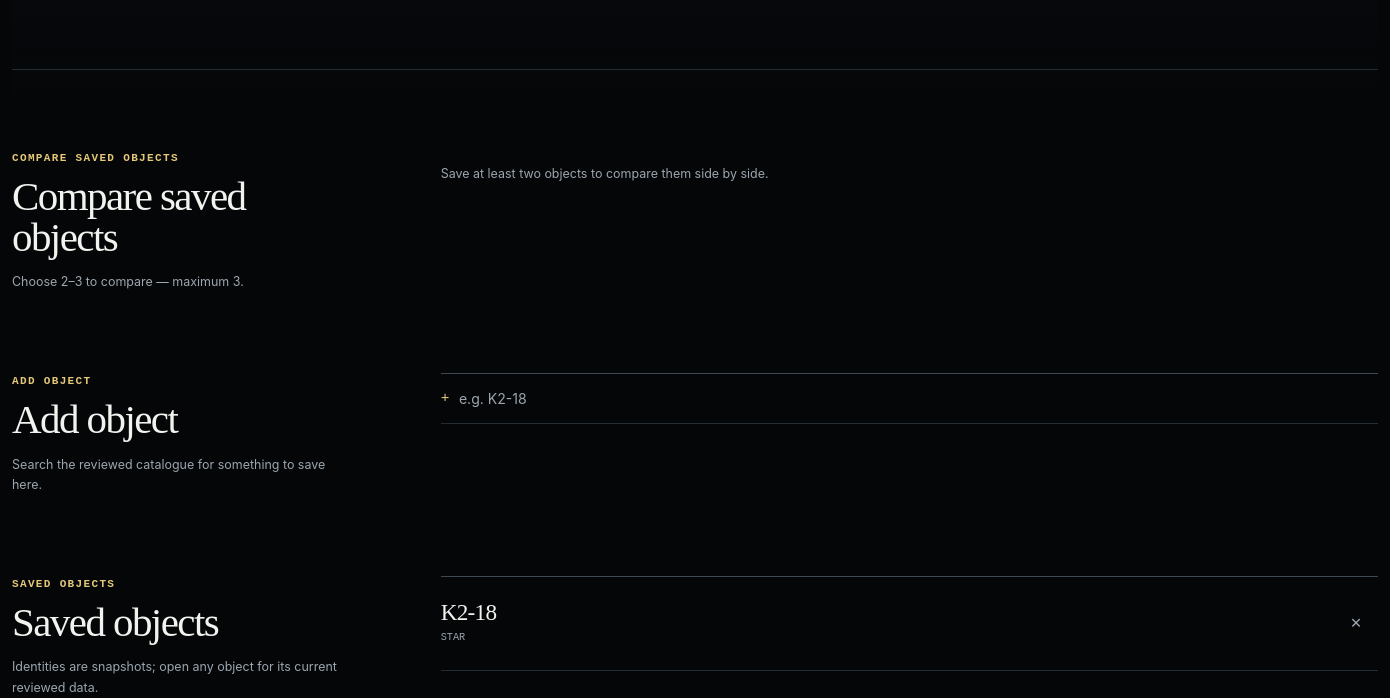
CollectionDetailView › removes an object and persists the removal
This screenshot has width=1390, height=698.
(page scrolled)
Click the button named "Remove K2-18 from the collection". click: click(1356, 623)
box: [1334,601,1378,645]
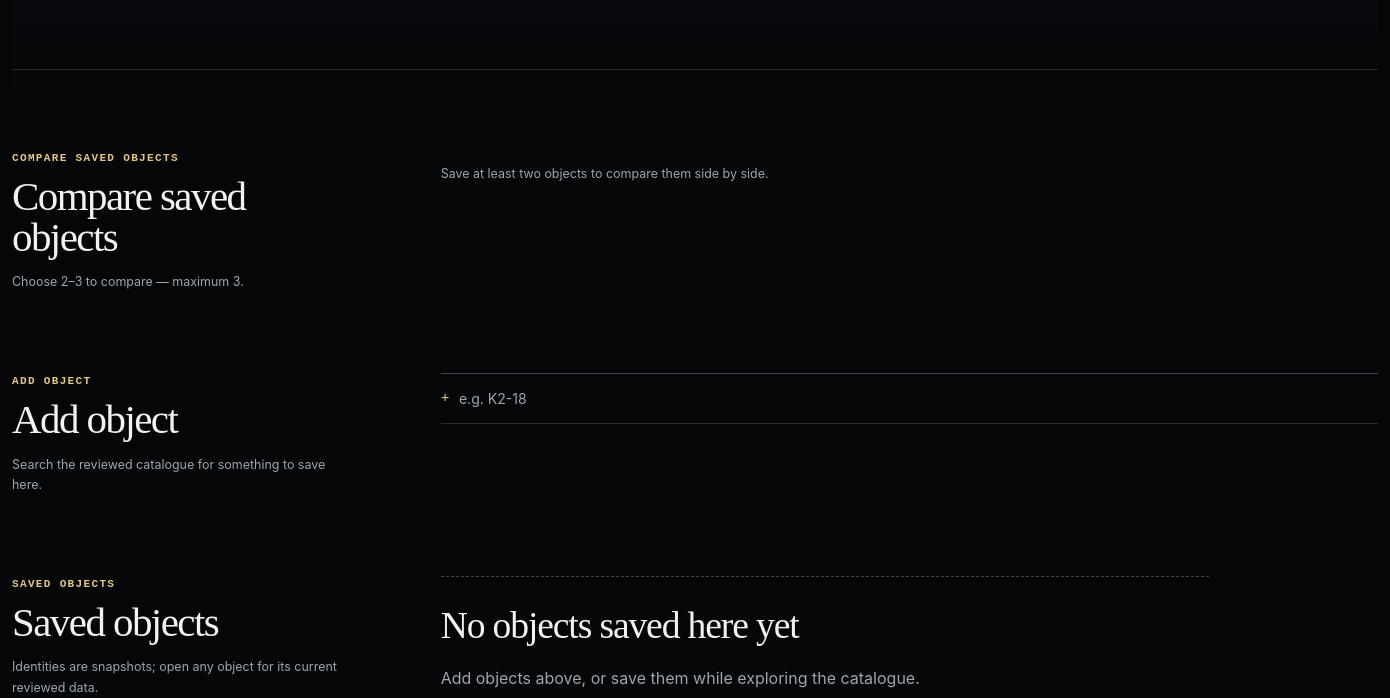
Now the heading "No objects saved here yet" is shown, box [441,605,798,646]
